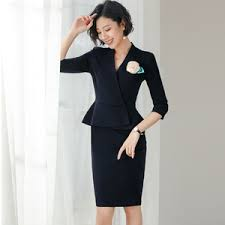F_W_suit jacket: (56, 41, 173, 134)
F_tailored skirt: (88, 127, 151, 212)
